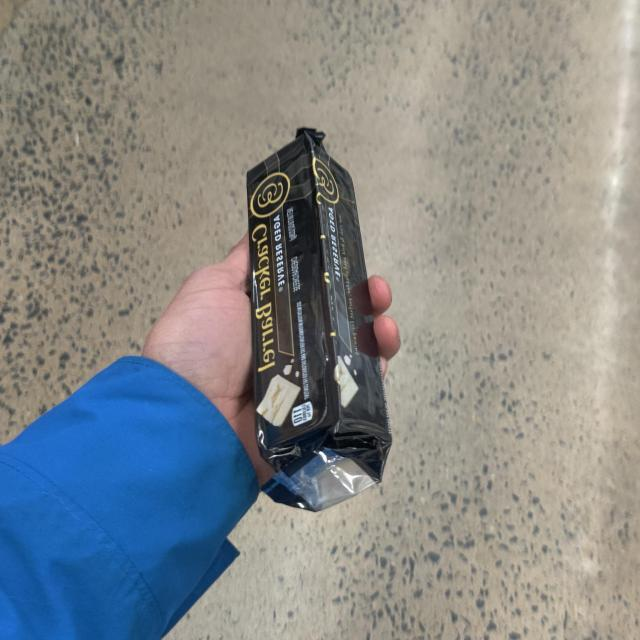cheese: (248, 133, 382, 505)
